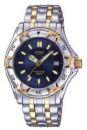pen: (4, 23, 82, 104)
